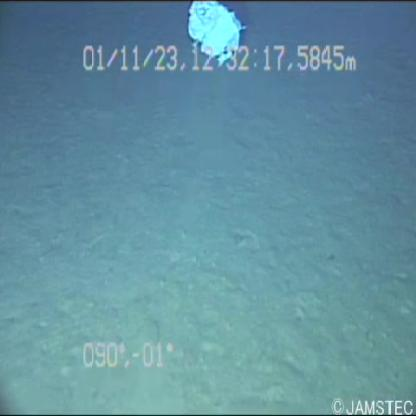Rác: (182, 1, 247, 65)
